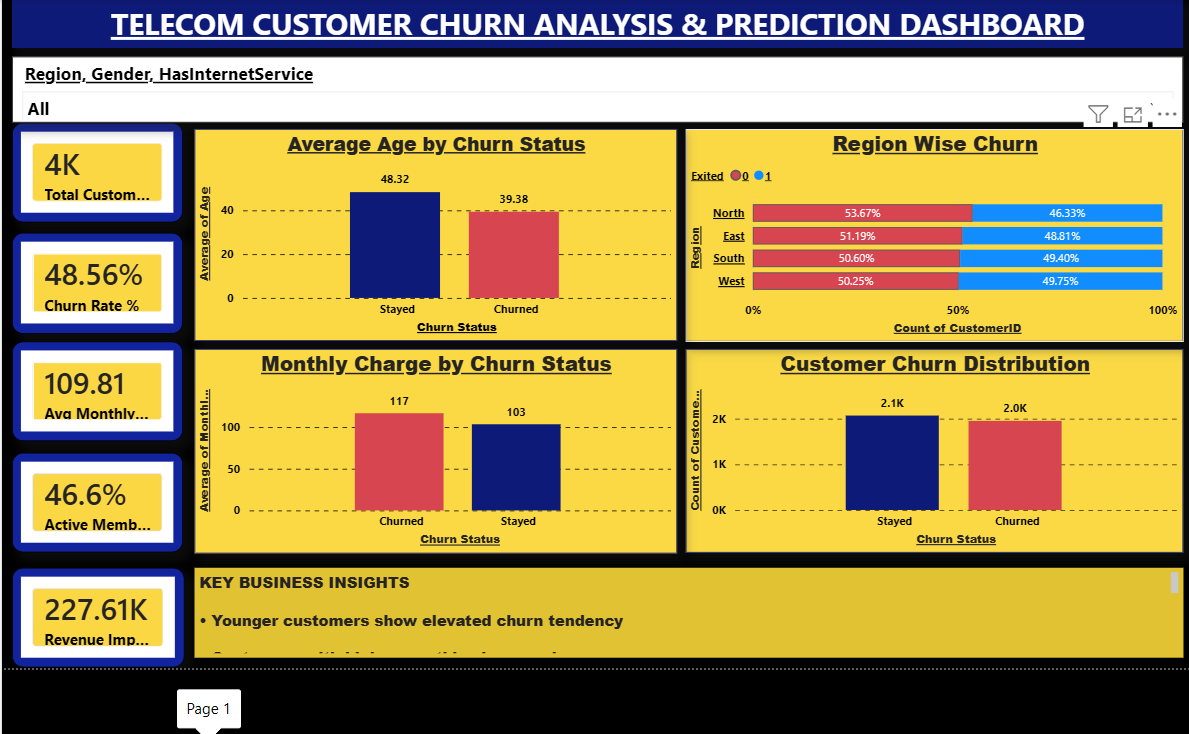

The dashboard page shown, as its layout file describes it:
{"tool":"powerbi","page":{"name":"Page 1","canvas":[1280,720],"ordinal":0},"visuals":[{"type":"textbox","box":[10.8,0,1260.1,52.4],"z":0},{"type":"cardVisual","fields":{"Data":["train.Total Customers"]},"box":[10.8,133.1,184.2,107.6],"z":1000},{"type":"cardVisual","fields":{"Data":["train.Churn Rate %"]},"box":[10.8,251.5,184.2,108.9],"z":2000},{"type":"cardVisual","fields":{"Data":["train.Avg Monthly Charge"]},"box":[10.8,368.5,184.2,107.6],"z":3000},{"type":"cardVisual","fields":{"Data":["train.Active Member %"]},"box":[10.8,488.2,184.2,107.6],"z":4000},{"type":"cardVisual","fields":{"Data":["train.Revenue Impact"]},"box":[10.8,611.9,185.6,107.6],"z":5000},{"type":"slicer","fields":{"Values":["train.Region","train.Gender","train.HasInternetService"]},"box":[10.8,61.9,1260.1,71.3],"z":6000},{"type":"clusteredColumnChart","title":"Customer Churn Distribution","fields":{"Y":["CountNonNull(train.CustomerID)"],"Category":["train.Churn Status"]},"box":[735.6,376.6,535.2,219.2],"z":7000},{"type":"hundredPercentStackedBarChart","title":"Region Wise Churn","fields":{"Category":["train.Region"],"Y":["CountNonNull(train.CustomerID)"],"Series":["train.Exited"]},"box":[735.6,139.9,535.2,228.6],"z":8000},{"type":"clusteredColumnChart","title":"Average Age by Churn Status","fields":{"Category":["train.Churn Status"],"Y":["Avg(train.Age)"]},"box":[207.5,140.2,518.8,227.8],"z":9000},{"type":"clusteredColumnChart","title":"Monthly Charge by Churn Status","fields":{"Y":["Avg(train.MonthlyCharge)"],"Category":["train.Churn Status"]},"box":[207.5,376,518.8,219.7],"z":10000},{"type":"textbox","box":[207.1,611.9,1063.8,96.8],"z":11000}]}

Visuals, with their boxes in screenshot pixels (x1, y1, x2, y2):
textbox: l=22, t=3, r=1177, b=51
cardVisual - train.Total Customers: l=22, t=125, r=191, b=224
cardVisual - train.Churn Rate %: l=22, t=233, r=191, b=333
cardVisual - train.Avg Monthly Charge: l=22, t=341, r=191, b=439
cardVisual - train.Active Member %: l=22, t=450, r=191, b=549
cardVisual - train.Revenue Impact: l=22, t=564, r=192, b=662
slicer - train.Region x train.Gender: l=22, t=60, r=1177, b=125
"Customer Churn Distribution" clusteredColumnChart: l=686, t=348, r=1177, b=549
"Region Wise Churn" hundredPercentStackedBarChart: l=686, t=131, r=1177, b=341
"Average Age by Churn Status" clusteredColumnChart: l=202, t=132, r=678, b=340
"Monthly Charge by Churn Status" clusteredColumnChart: l=202, t=348, r=678, b=549
textbox: l=202, t=564, r=1177, b=652
